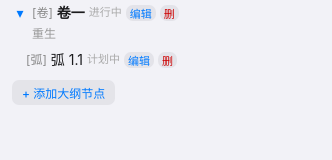
OutlinePanel › 树状渲染 + 折叠
The width and height of the screenshot is (332, 160).
expect the text "卷一" is shown: met, box [57, 2, 85, 23]
expect the text "弧 1.1" is shown: met, box [51, 49, 83, 70]
Click the button with test id "outline-toggle-v1": (20, 12) [12, 4, 28, 21]
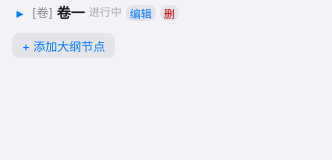
expect the text "弧 1.1" is gone: met
